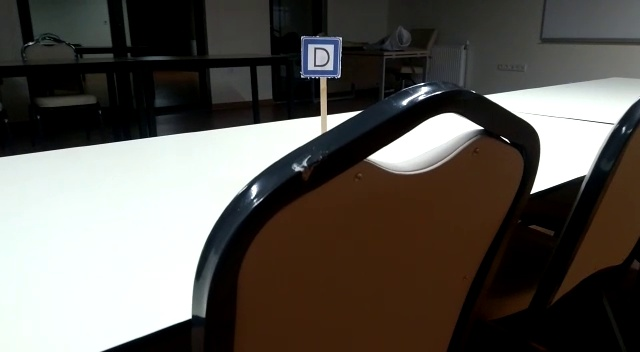durak: (300, 37, 342, 77)
